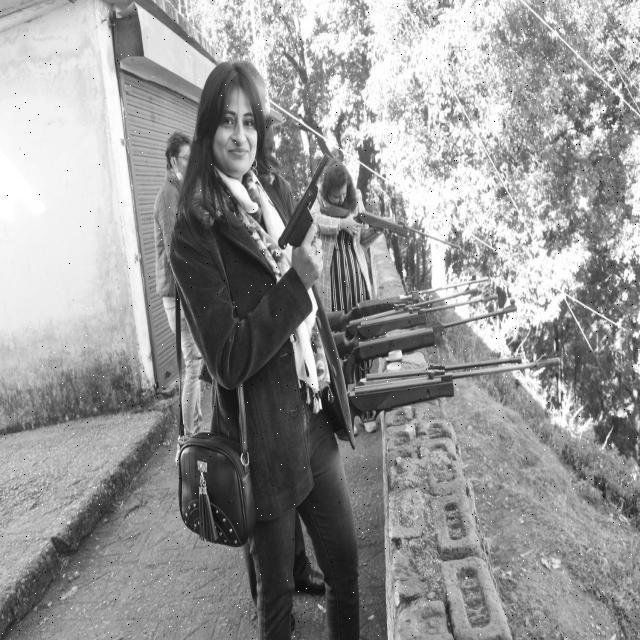gun: (340, 296, 518, 387), (348, 357, 561, 425), (327, 276, 490, 331), (269, 145, 336, 256), (326, 203, 464, 253)
